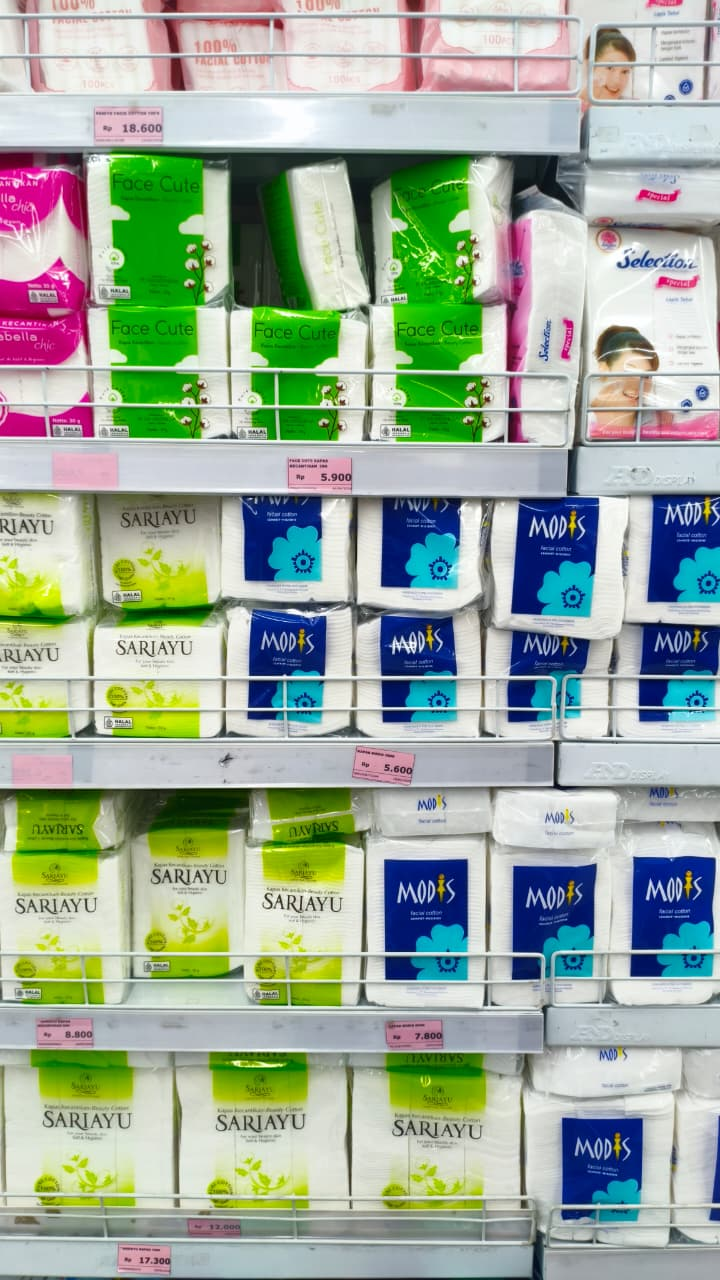Modis: (497, 490, 616, 599), (487, 849, 606, 958)
Sarjayu: (88, 615, 220, 740), (242, 849, 374, 974), (197, 1068, 329, 1193), (21, 1067, 153, 1192), (367, 1073, 499, 1198), (1, 857, 132, 982)
